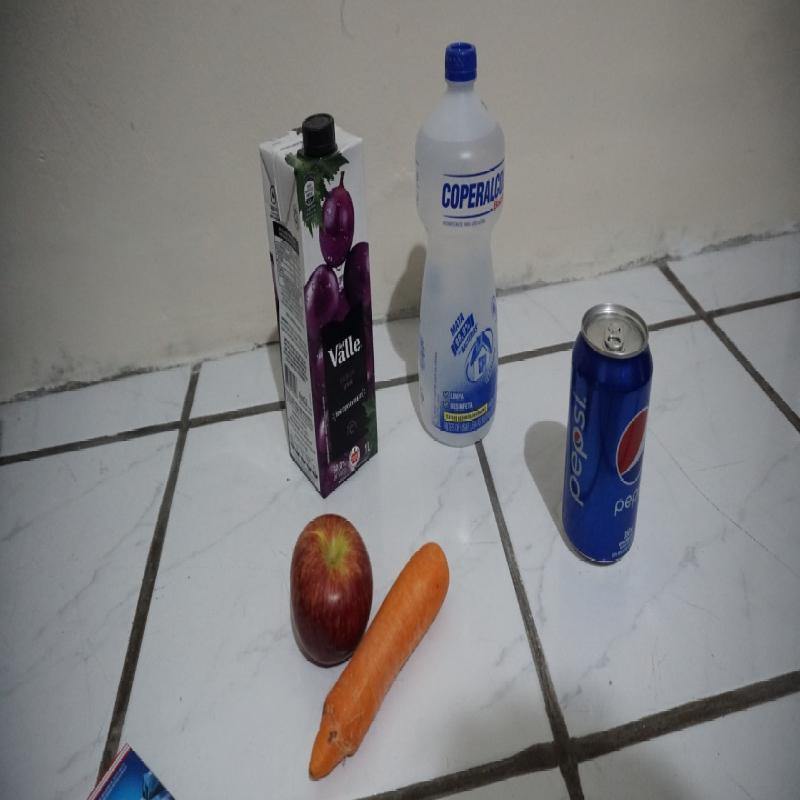Alcohol Bottle: (415, 38, 507, 446)
Apple: (291, 514, 374, 666)
Carrot: (372, 541, 450, 726)
Gelatine: (85, 742, 179, 798)
Soda can: (559, 302, 653, 566)
